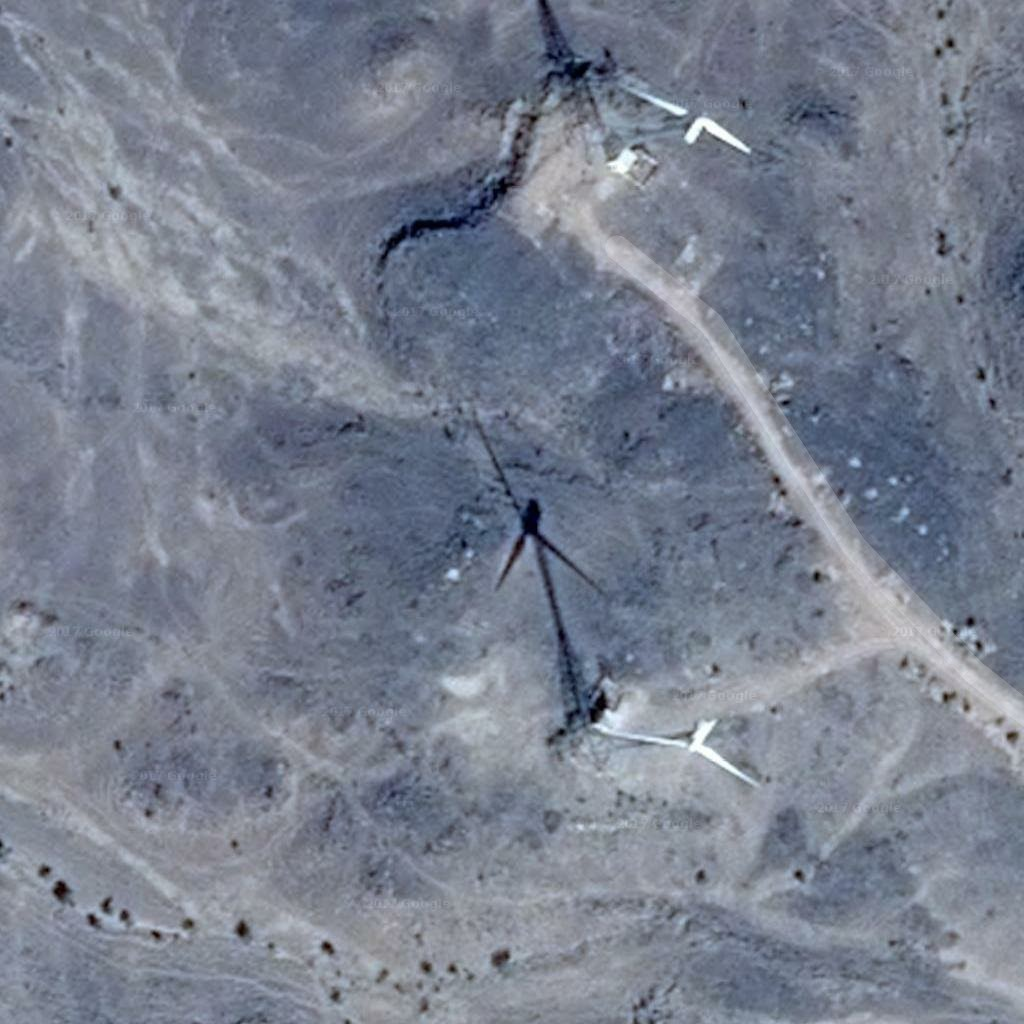Windmill: (463, 405, 600, 657)
